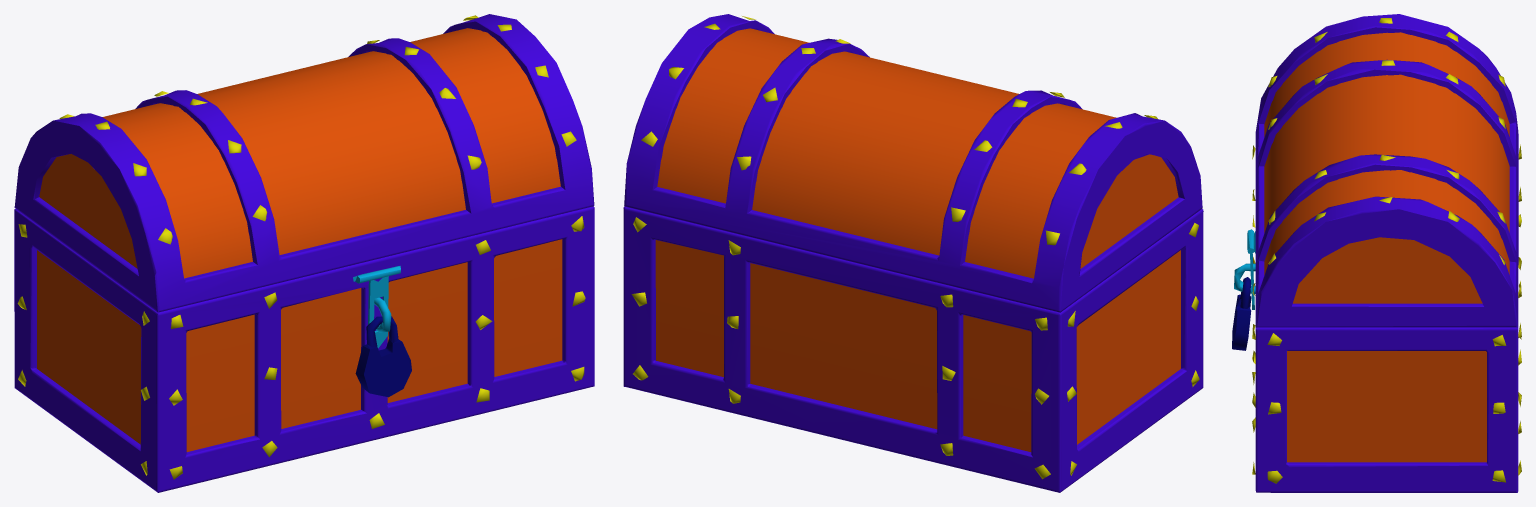
The model's file is SM_Chest.fbx.
The picture shows the model from 3 angles, left to right: view 1: azimuth 30°, elevation 25°; view 2: azimuth 150°, elevation 25°; view 3: azimuth 270°, elevation 25°; orthographic projection. The views are drawn at different scales.
Visible parts, largest first — view 1: SM_Chest; view 2: SM_Chest; view 3: SM_Chest.
Part boxes in pixels (x1=…): SM_Chest: x1=14, y1=14, x2=594, y2=492; SM_Chest: x1=623, y1=14, x2=1203, y2=492; SM_Chest: x1=1232, y1=14, x2=1521, y2=492.
Bounding box in the file's own units: 188 × 116 × 126.
